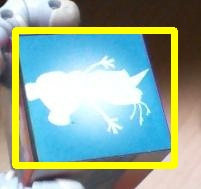Blue2: (15, 30, 174, 165)
